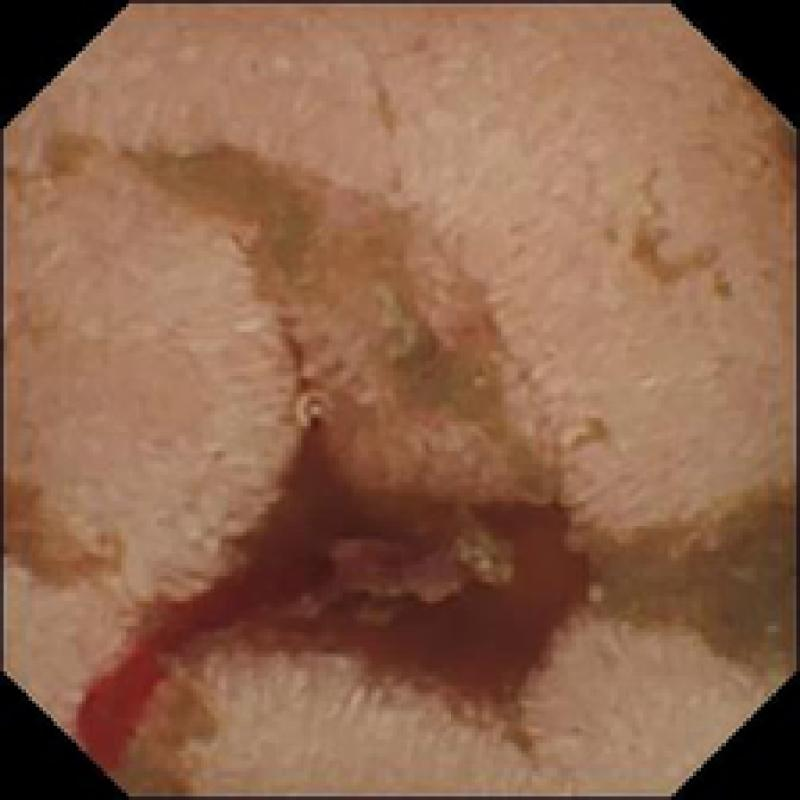bleeding: (71, 568, 290, 757)
